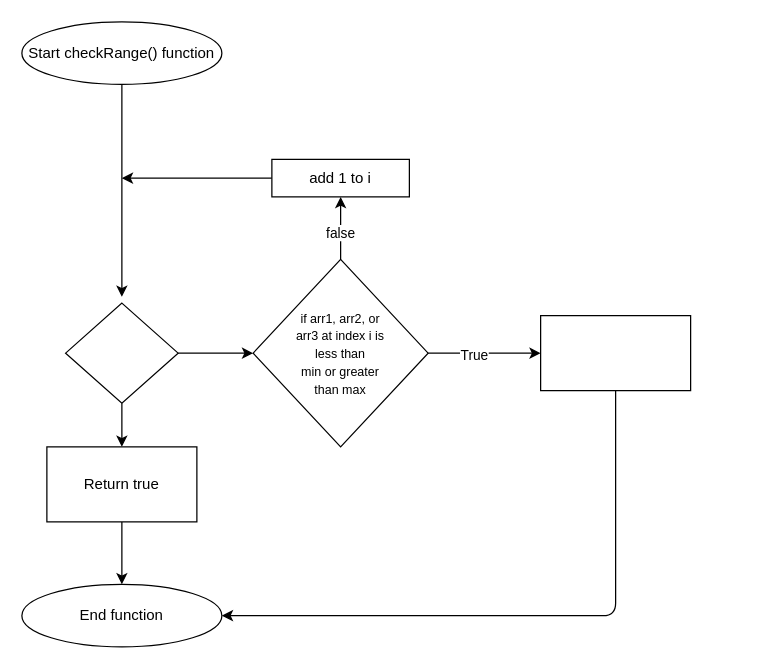
This 758x669 diagram has some shape labels left out. Each missing label, with the centre of its shape:
"i < size?" belongs at [121,352].
"return false" belongs at [615,352].
